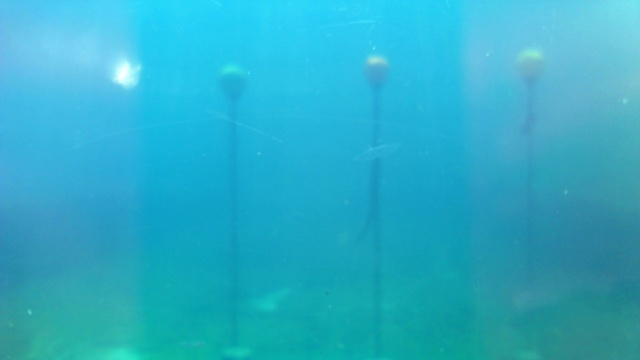buoy_green: (218, 63, 244, 104)
buoy_red: (364, 58, 388, 85)
